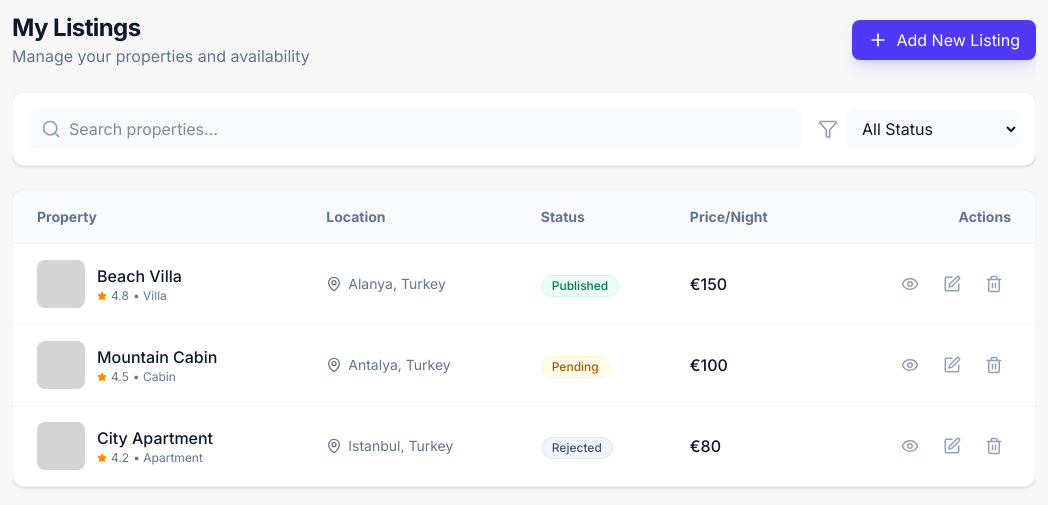
Scenario: HostPropertiesPage › allows filtering by status
This screenshot has width=1048, height=505.
Expected: the text "Beach Villa" is shown, top-left (97, 264), bottom-right (182, 288)
Select "Published" in the dropdown at x=932, y=129, box top-left (846, 110), bottom-right (1019, 148)
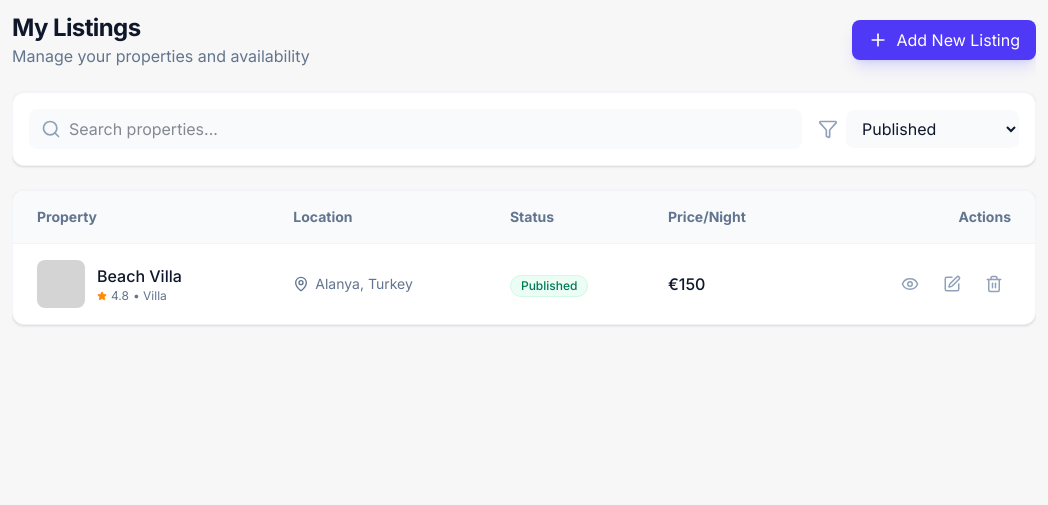
Expected: the text "Beach Villa" is shown, top-left (97, 264), bottom-right (182, 288)
Expected: the text "Mountain Cabin" is gone
Expected: the text "City Apartment" is gone
